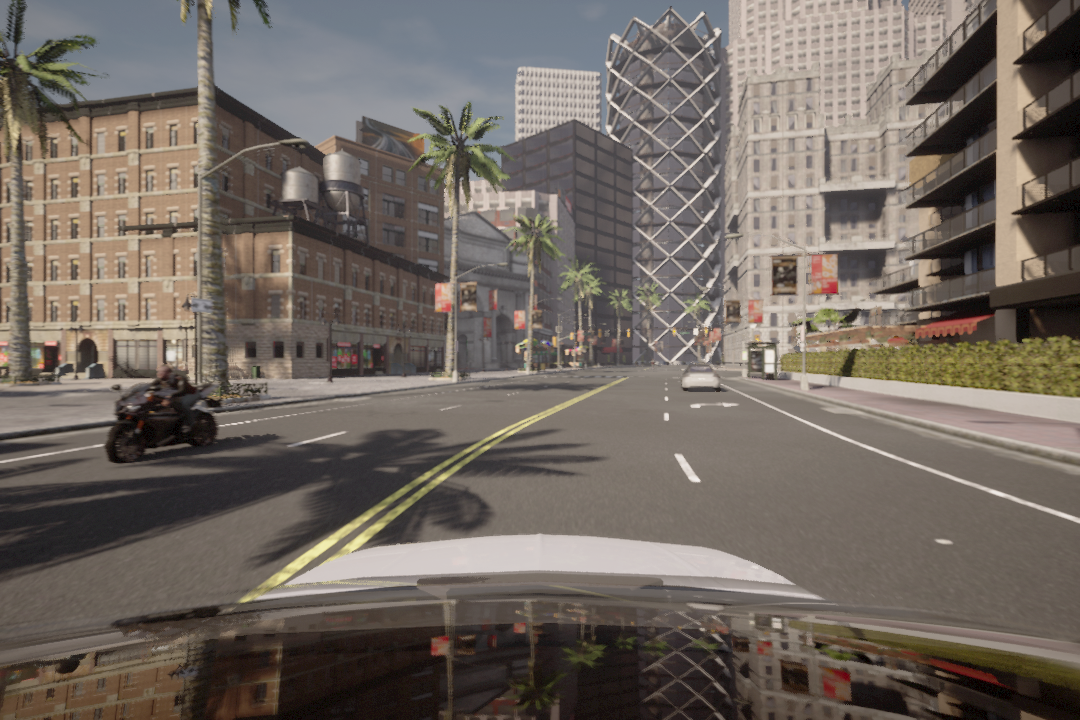RoadSign_right: (689, 400, 740, 411)
